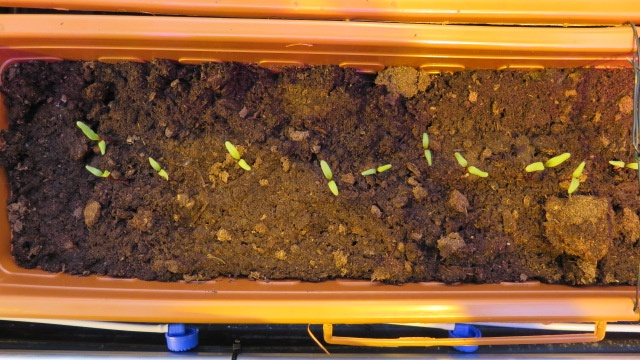crop: (73, 119, 110, 156), (520, 149, 574, 173), (219, 139, 256, 172), (451, 150, 493, 178), (318, 158, 343, 198), (565, 159, 588, 196), (145, 155, 172, 183), (417, 131, 436, 166), (82, 163, 114, 179), (359, 163, 394, 176)
